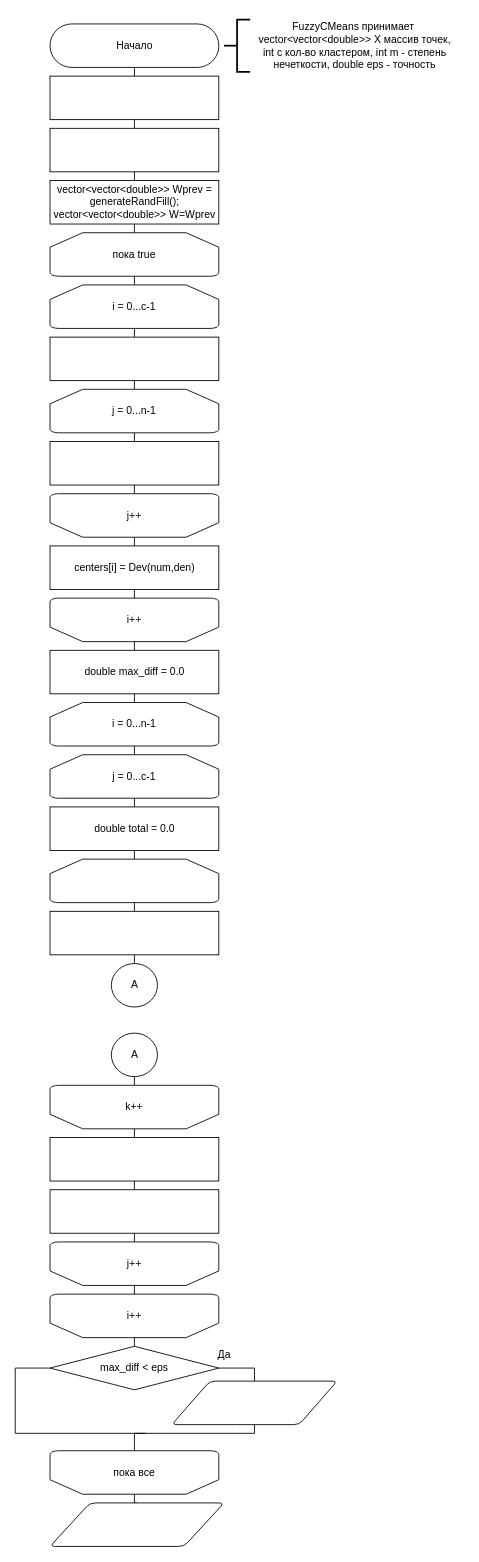
The diagram is 479 pixels wide and 1562 high, and some of its shapes have lost their labels. Each missing label, with the box of its shape:
break: (171, 1380, 337, 1425)
int n = X.size() int r = X[0].size(): (49, 75, 219, 120)
k = 0...c-1: (49, 858, 219, 903)
max_diff = max(fabs(W[i][j] - Wprev[i][j]), max_diff) Wprev[i][j] = W[i][j]: (49, 1189, 219, 1233)
num = Sum(num, Mul(pow(W[i][j], m), X[j]) den += pow(W[i][j],m): (49, 441, 219, 485)
return W: (49, 1502, 224, 1546)
total += pow(dist(X[i],centers[j])/ dist(X[i] - centers[k]), 2/(m-1)): (49, 910, 219, 955)
vector<double> num(X[0].size()) double den = 0.0: (49, 336, 219, 381)
vector<vector<double>> centers = generateZeroFill(): (49, 127, 219, 172)
W[i][j] = 1.0/total: (49, 1137, 219, 1181)
